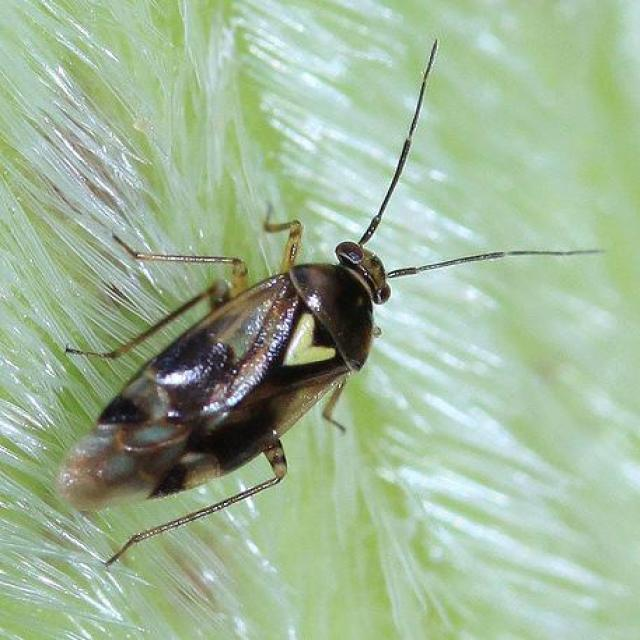Miridae-Adult-: (44, 53, 534, 569)
